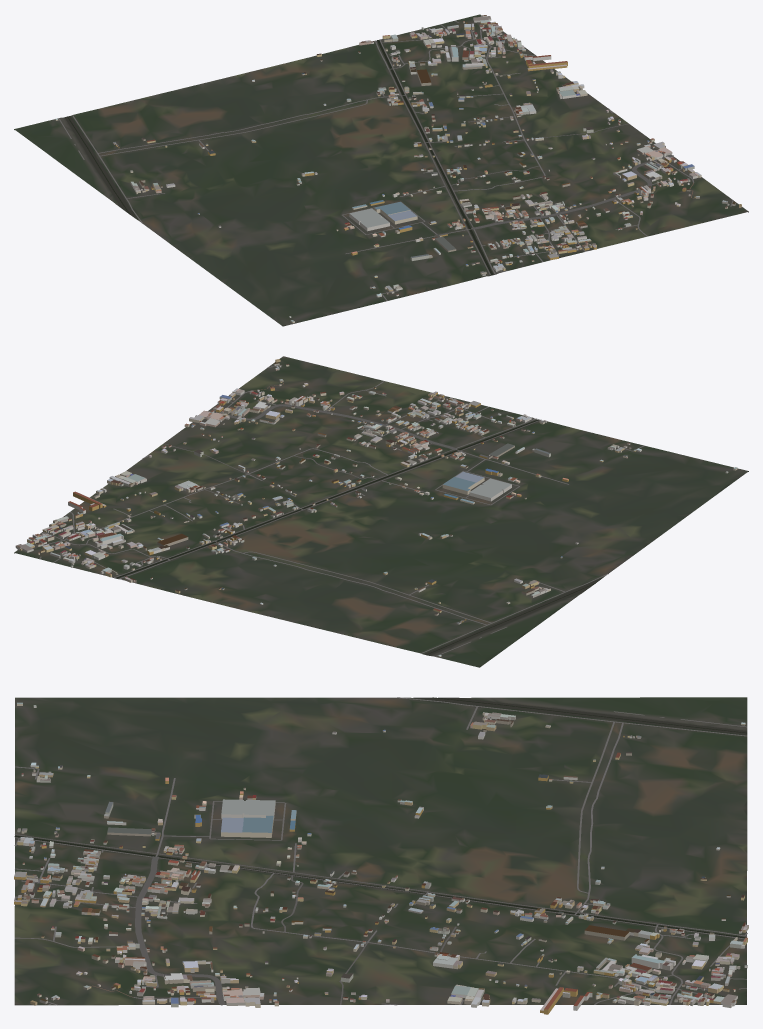
3 views of the same model, one above another, from view 1: azimuth 30°, elevation 25°; view 2: azimuth 150°, elevation 25°; view 3: azimuth 270°, elevation 25° (orthographic). The views are drawn at different scales.
Parts seen in each view (by area): view 1: ground, buildings, roads, water; view 2: ground, buildings, roads, water; view 3: ground, buildings, roads, water.
Boxes of the visible parts, x1,y1,x2,y2 form: ground: (14, 14, 748, 326); buildings: (55, 15, 741, 323); roads: (58, 20, 736, 300); water: (64, 40, 493, 275); ground: (14, 356, 748, 667); buildings: (15, 359, 737, 657); roads: (39, 365, 644, 656); water: (115, 419, 601, 655); ground: (14, 697, 747, 1005); buildings: (14, 702, 748, 1014); roads: (14, 697, 747, 1005); water: (14, 697, 746, 938).
Bounding box in the file's own units: 1444 × 20.79 × 1406.
